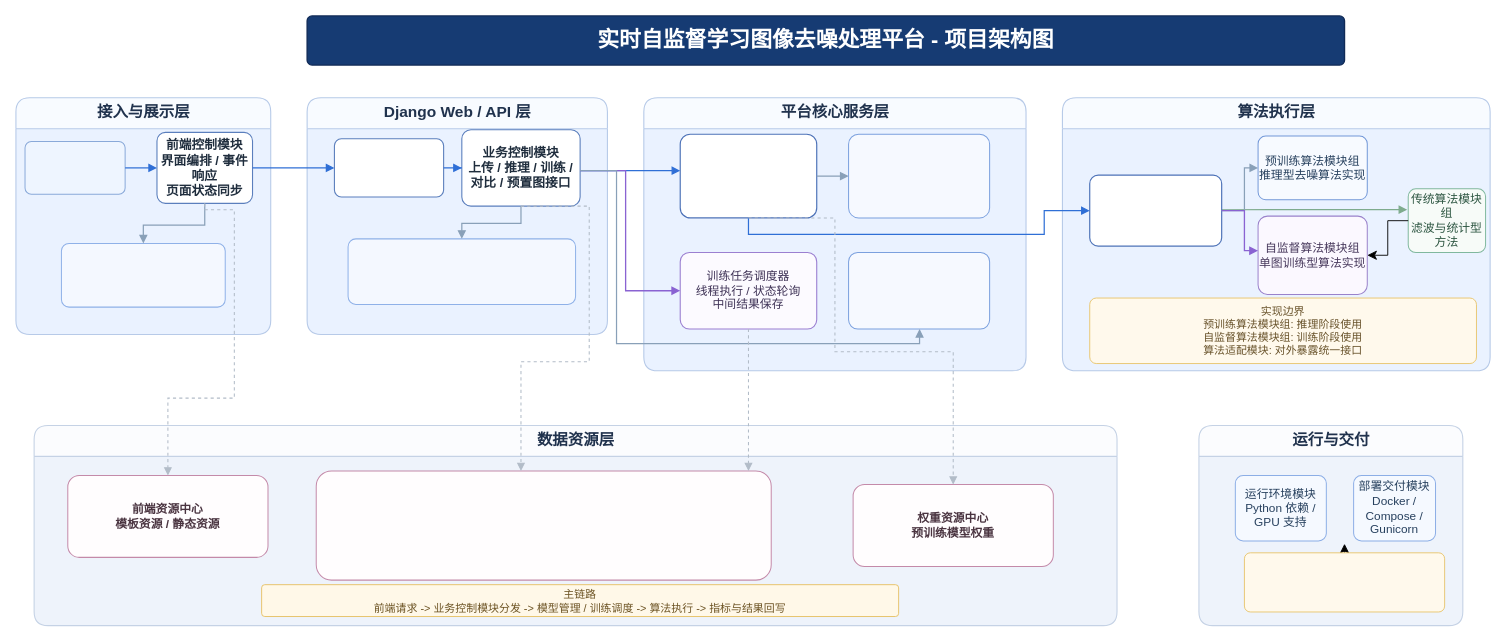
Image size: 1507x642. Some labels were removed from this diagram. Each missing label, with the centre of its shape:
"ModelManager 模型发现 / 注册 / 缓存 权重加载 / 推理分发" belongs at (748,175).
"交互与分析 模式切换 / 轮询 / ROI 图表联动与结果展示" belongs at (143,275).
"交付约束 大权重不进 Git 仓库 数据目录挂载 本地与容器共用同一业务结构" belongs at (1344,582).
"媒体资源中心 预置数据 / 上传缓存 推理结果 / 训练中间结果" belongs at (543,525).
"指标评估模块 PSNR / SSIM 计算" belongs at (919,290).
"模型注册中心 类别组织 / 注册元数据" belongs at (919,175).
"模式校验模块 模块权限与参数约束" belongs at (461,271).
"用户 / 浏览器" belongs at (74,167).
"算法适配模块 统一平台调用接口" belongs at (1155,210).
"路由分发模块 页面入口 / API 映射" belongs at (388,167).
